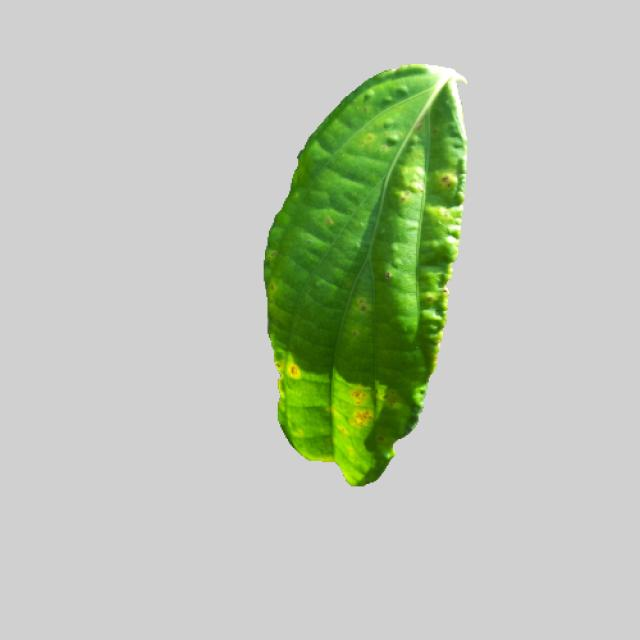yellow-mottle-virus: (254, 64, 476, 483)
